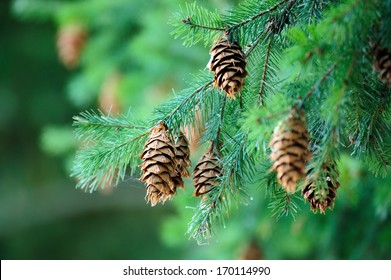Pc: (268, 108, 311, 190), (141, 125, 177, 207), (210, 31, 245, 95), (192, 145, 225, 209)
